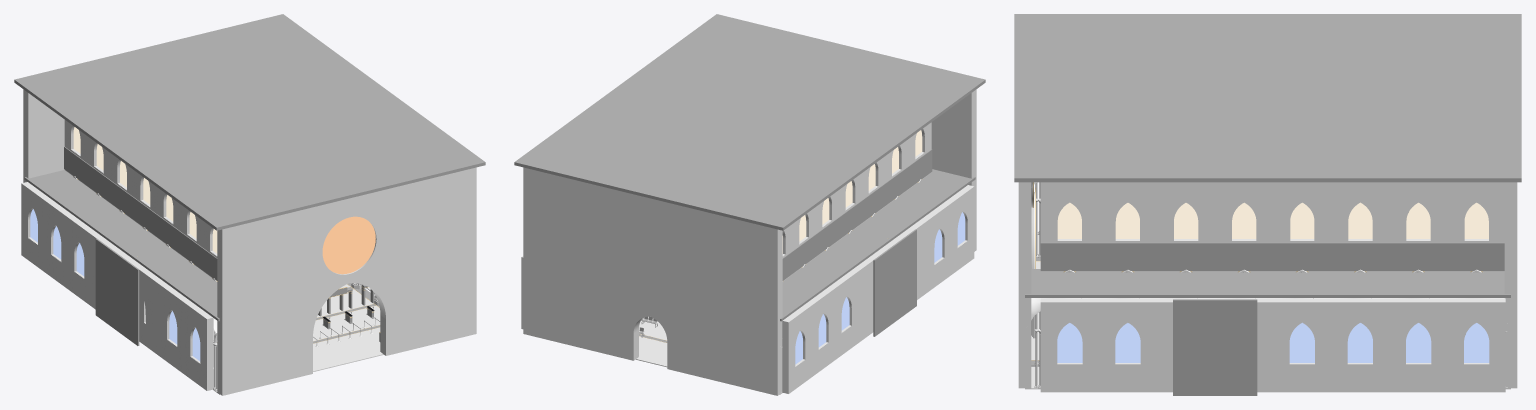
The model's file is hero_hall.glb.
3 views of the same model, side by side, from view 1: azimuth 30°, elevation 25°; view 2: azimuth 150°, elevation 25°; view 3: azimuth 270°, elevation 25° (orthographic). The views are drawn at different scales.
Visible parts, largest first — view 1: H_wallDark, H_wall, H_floorNave, H_glassRose, H_glassA, H_glassN, H_blackMetal, H_trim, H_marbleDark; view 2: H_wallDark, H_wall, H_glassA, H_floorNave, H_glassN, H_trim; view 3: H_wallDark, H_wall, H_glassN, H_glassA, H_trim, H_pier, H_vault.
Boxes of the visible parts, x1,y1,x2,y2 form: H_wallDark: (14, 14, 485, 345); H_wall: (21, 89, 476, 395); H_floorNave: (213, 284, 383, 371); H_glassRose: (322, 216, 375, 274); H_glassA: (30, 209, 200, 361); H_glassN: (73, 127, 217, 253); H_blackMetal: (318, 284, 380, 341); H_trim: (28, 149, 380, 369); H_marbleDark: (217, 283, 380, 343); H_wallDark: (514, 14, 985, 336); H_wall: (521, 89, 976, 395); H_glassA: (795, 212, 965, 364); H_floorNave: (636, 316, 667, 367); H_glassN: (782, 130, 922, 253); H_trim: (638, 152, 967, 366); H_wallDark: (1014, 14, 1521, 395); H_wall: (1018, 182, 1517, 392); H_glassN: (1057, 202, 1488, 238); H_glassA: (1057, 322, 1489, 362); H_trim: (1031, 183, 1489, 364); H_pier: (1034, 182, 1507, 388); H_vault: (1031, 182, 1504, 319).
Size of what is drawn, in the model's own units: 38.2 by 22.5 by 48.
